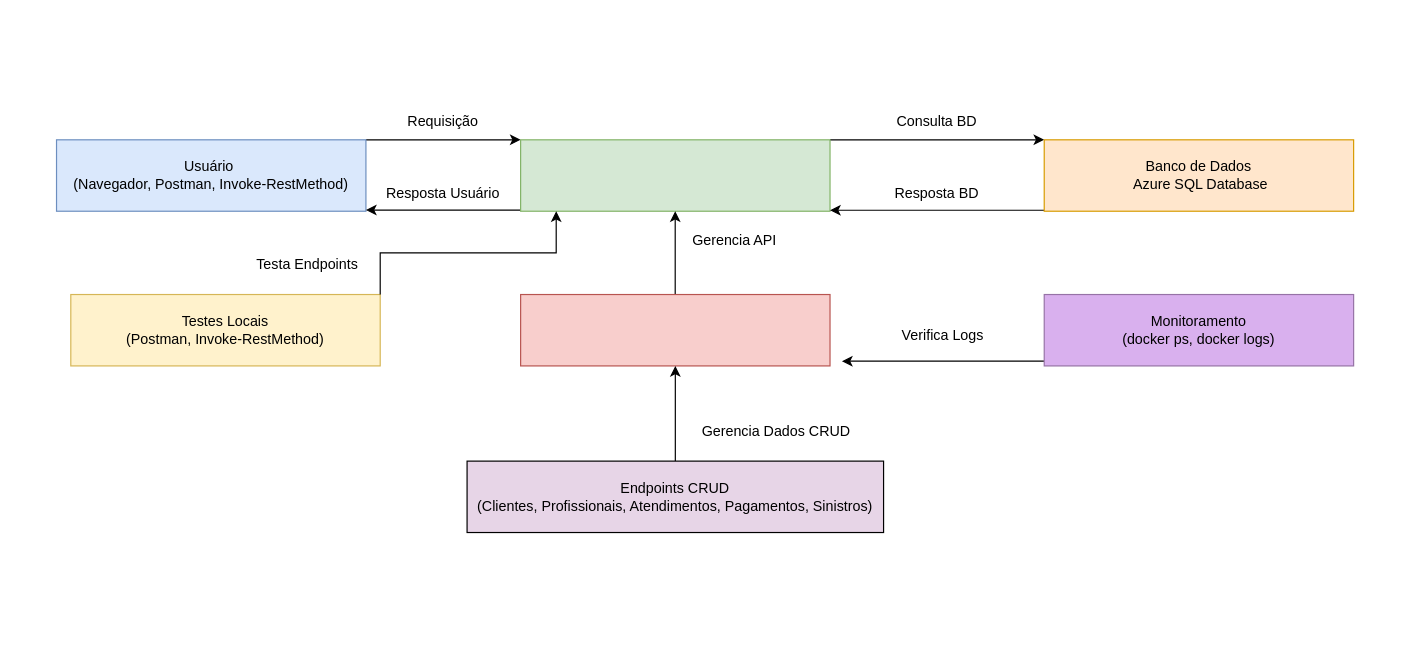
This 1410x660 diagram has some shape labels left out. Each missing label, with the box of its shape:
API Flask (Docker Container): (519, 139, 830, 211)
Docker Compose (Gerenciador de Containers): (519, 293, 830, 366)
